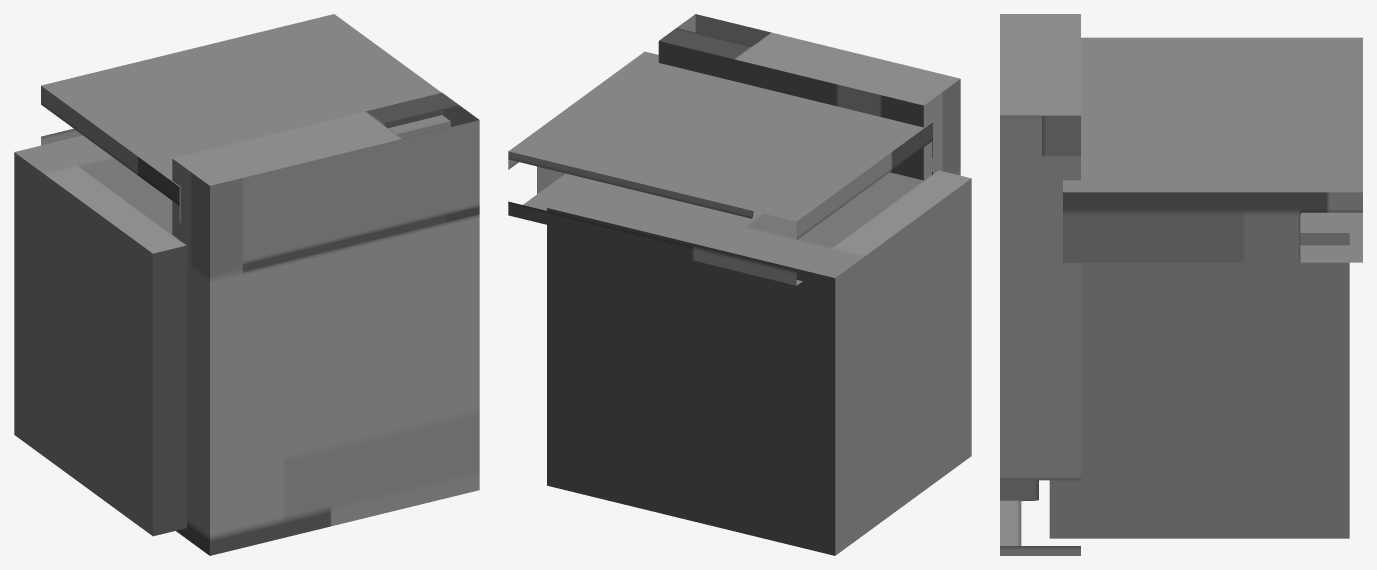
The picture shows the model from 3 angles, left to right: view 1: azimuth 30°, elevation 25°; view 2: azimuth 150°, elevation 25°; view 3: azimuth 270°, elevation 25°; orthographic projection. The views are drawn at different scales.
Size of the model in its own units: 0.9108 by 0.987 by 0.812.
